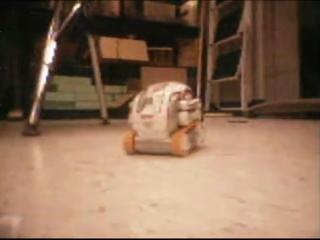cozmo: (122, 80, 205, 157)
